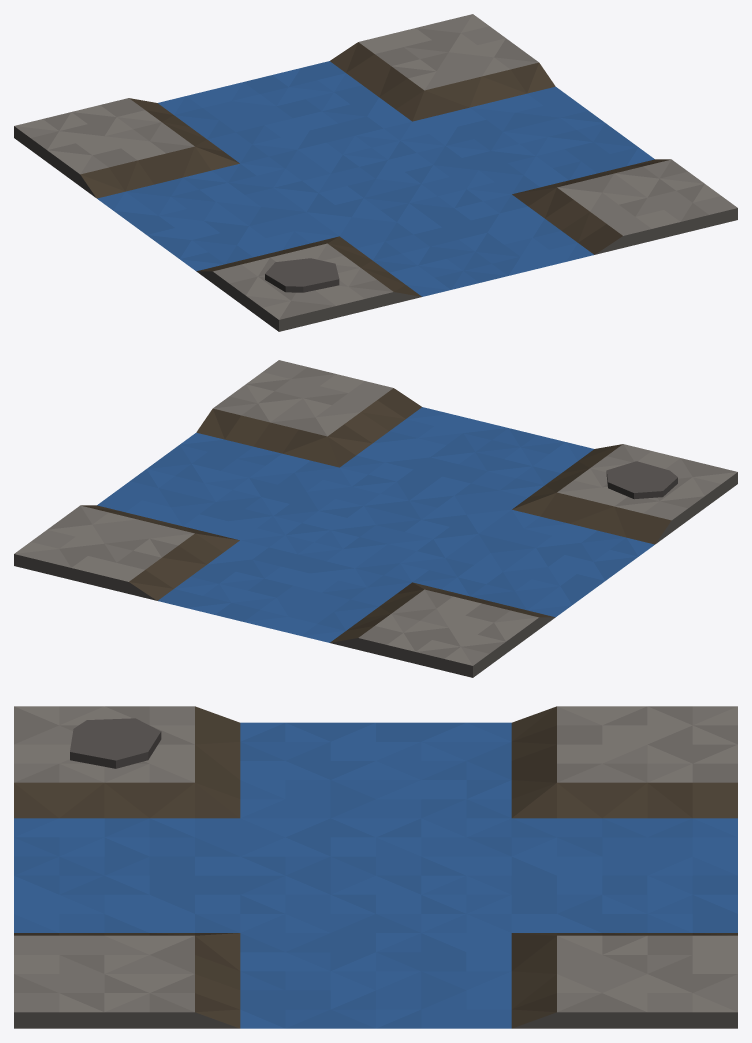
File: river_cross_rock.glb
3 views of the same model, one above another, from view 1: azimuth 30°, elevation 25°; view 2: azimuth 150°, elevation 25°; view 3: azimuth 270°, elevation 25° (orthographic). The views are drawn at different scales.
Parts seen in each view (by area): view 1: river_cross_rock; view 2: river_cross_rock; view 3: river_cross_rock.
Boxes of the visible parts, x1=… form: river_cross_rock: x1=14, y1=14, x2=737, y2=331; river_cross_rock: x1=14, y1=360, x2=737, y2=677; river_cross_rock: x1=14, y1=706, x2=737, y2=1028.
Size of the model in its own units: 4 by 0.1507 by 4.
